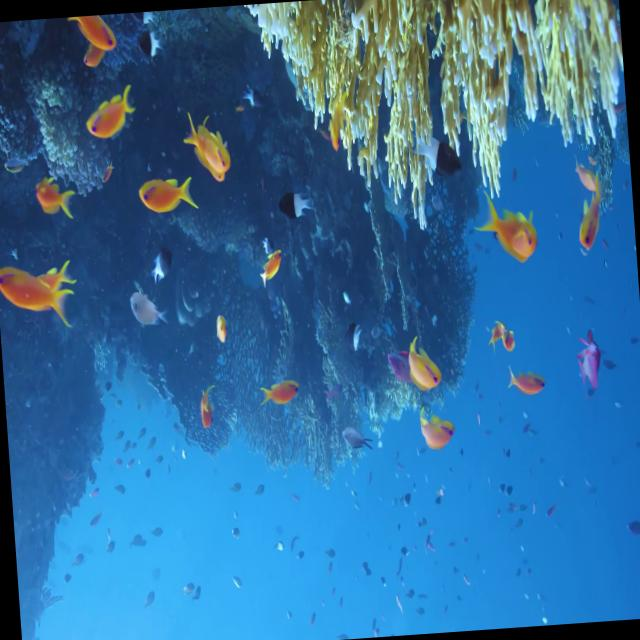fish: (0, 263, 75, 320), (481, 191, 538, 263), (180, 111, 232, 174), (82, 82, 136, 142), (572, 170, 604, 253), (138, 172, 194, 214), (407, 336, 443, 390), (34, 170, 74, 217), (416, 408, 458, 452), (574, 328, 602, 390), (504, 362, 548, 398), (127, 286, 168, 324), (260, 374, 300, 408), (258, 248, 282, 284)
